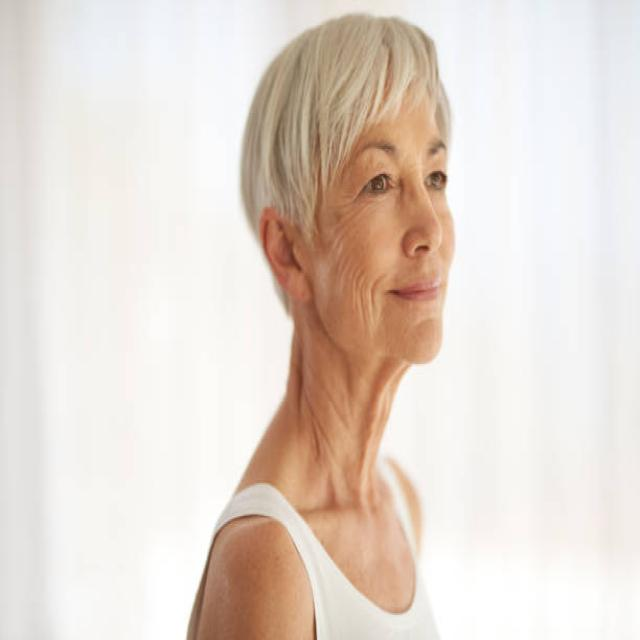Dry-Skin: (328, 209, 378, 334)
